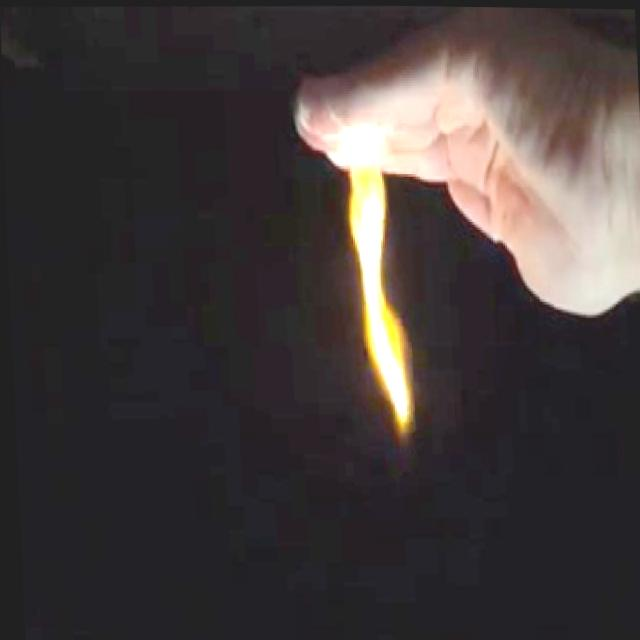Fire: (332, 114, 415, 448)
